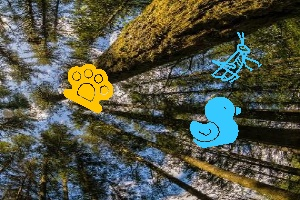熊爪: (61, 65, 114, 112)
蚂蚱: (213, 32, 261, 85)
鸭子: (191, 99, 243, 141)
